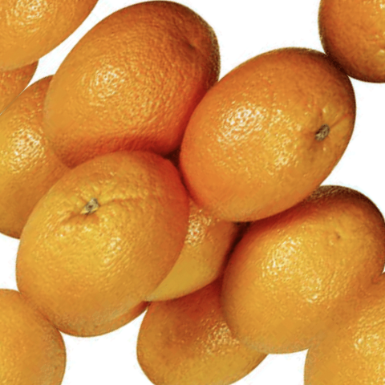orange: (146, 13, 385, 264), (0, 0, 263, 225), (0, 115, 223, 362), (184, 161, 385, 385)
